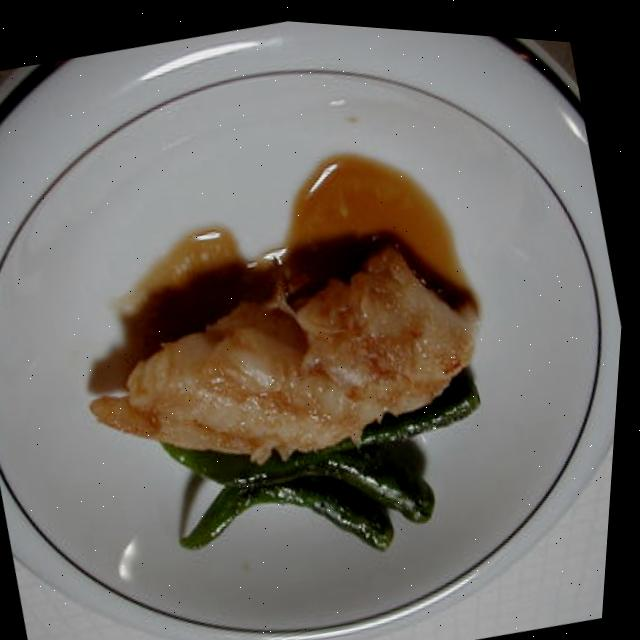熟制海鲜: (63, 218, 496, 500)
